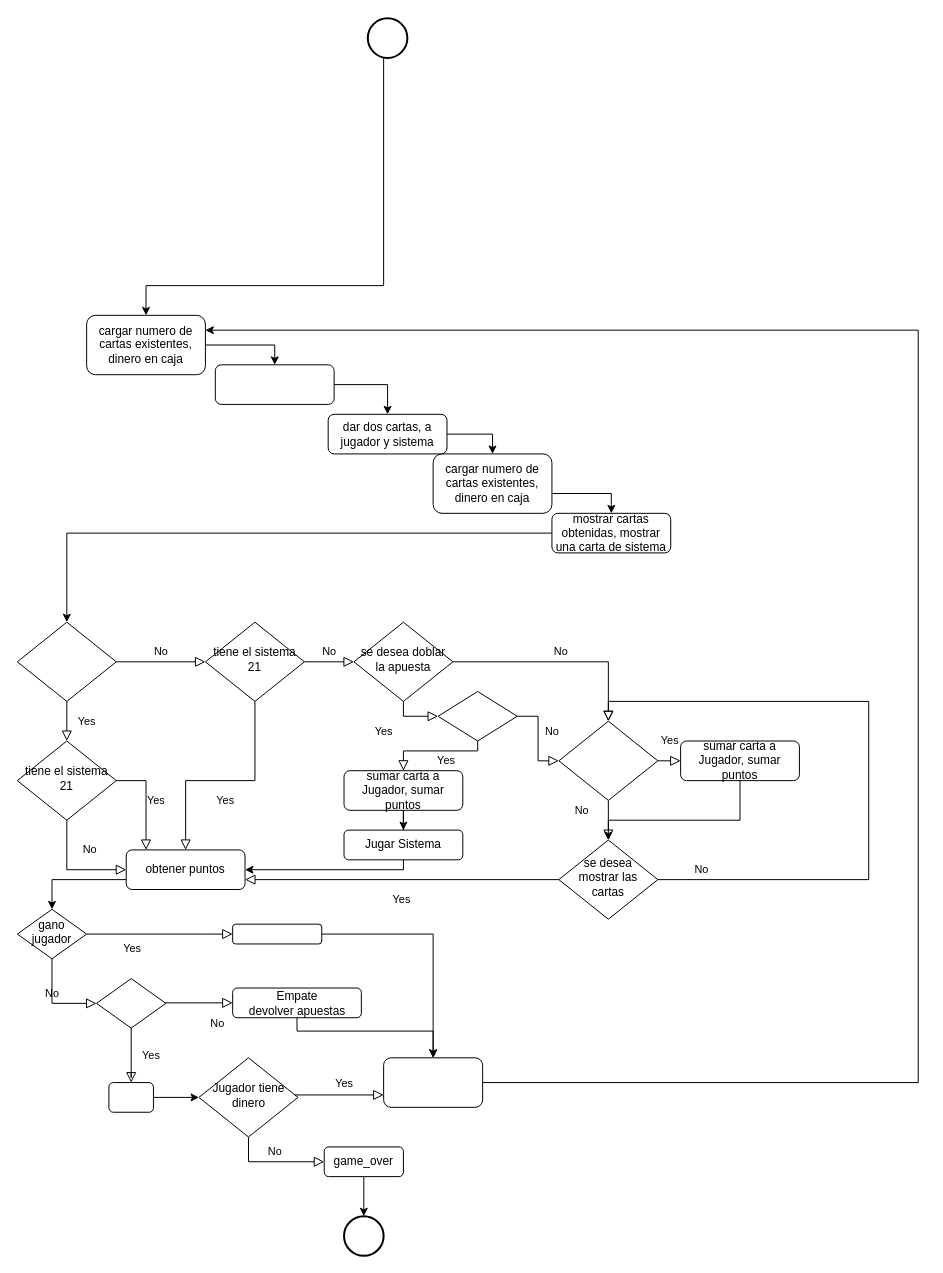
Some shapes in this 943 by 1273 pixel diagram are drawn without their labels. The shapes that lost their labels are listed below. From the top down, each one's centre as x and y in pixels, then its label:
At point (274, 384): "seleccionar apuesta".
At point (66, 661): "se tiene 21".
At point (477, 716): "hay dinero".
At point (608, 760): "Pedir Carta".
At point (277, 933): "sumar_apuesta".
At point (131, 1003): "gano sistema".
At point (130, 1097): "restar apuesta".
At point (433, 1082): "regresar a apuesta, inicio juego".
